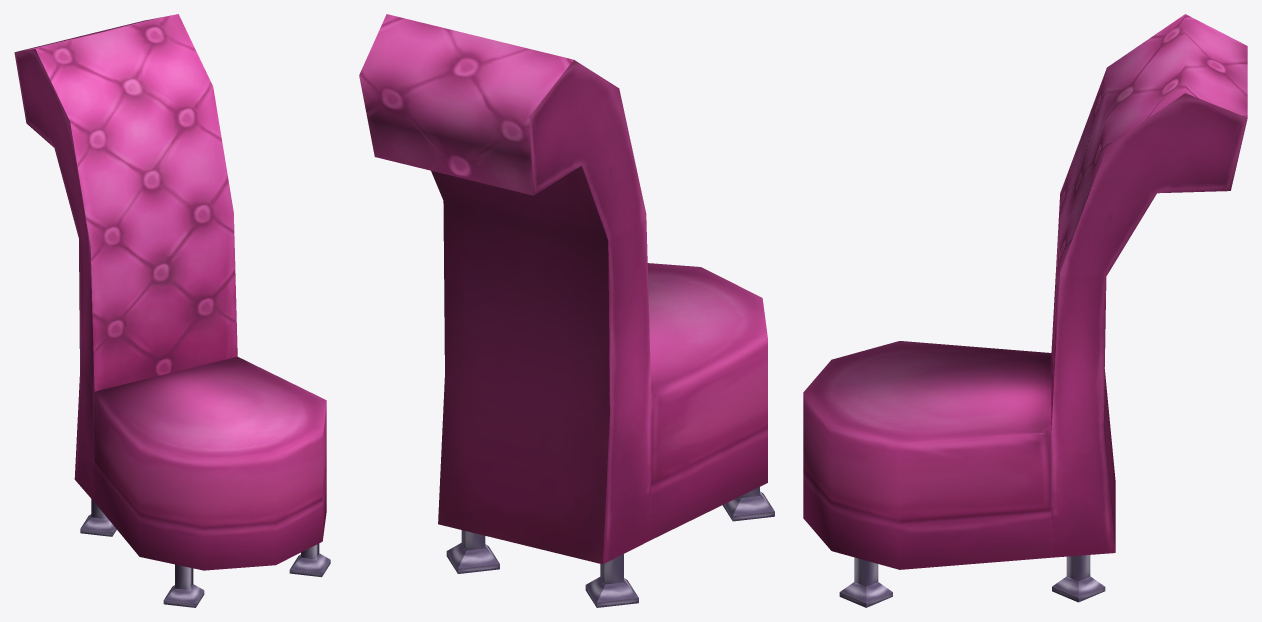
Rendered from chair02.DAE.
3 renders of one model, left to right at view 1: azimuth 30°, elevation 25°; view 2: azimuth 150°, elevation 25°; view 3: azimuth 270°, elevation 25°, orthographic. The views are drawn at different scales.
Parts seen in each view (by area): view 1: chair_02-Pivot; view 2: chair_02-Pivot; view 3: chair_02-Pivot.
Part boxes in pixels (x1,y1,x2,y2): chair_02-Pivot: [14, 14, 330, 607]; chair_02-Pivot: [359, 14, 774, 607]; chair_02-Pivot: [803, 14, 1247, 607].
Size of the model in its own units: 92.64 by 212 by 168.
1 material, 1 textured.
